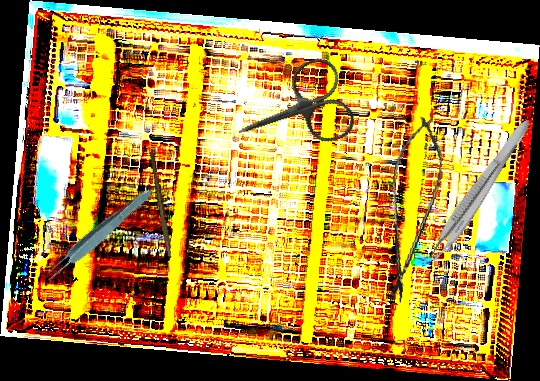Iris Scissors: (223, 53, 360, 171)
Micro Scissor: (374, 112, 450, 307)
Scalpel Handle: (147, 150, 175, 259)
Tissue Forceps: (417, 111, 535, 274), (39, 183, 157, 286)
